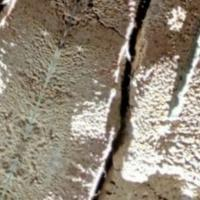crack: (88, 0, 156, 199)
